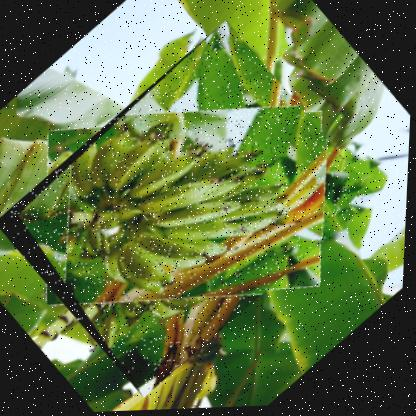banana: (0, 15, 384, 403)
